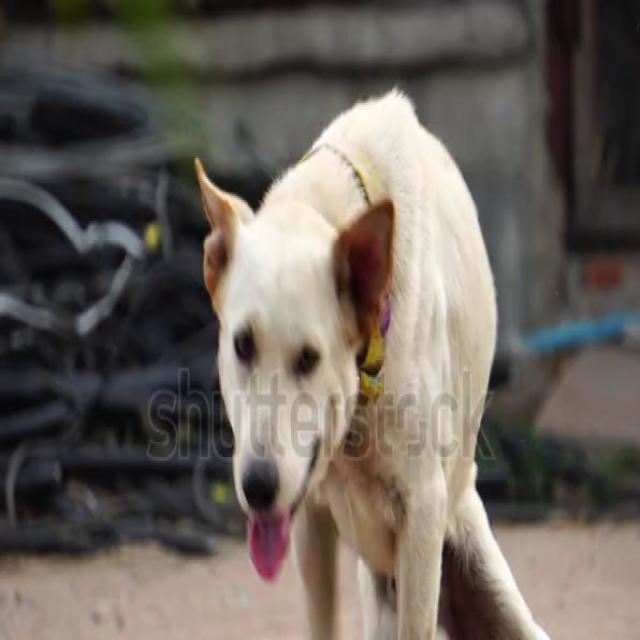normal_animals: (189, 82, 576, 638)
